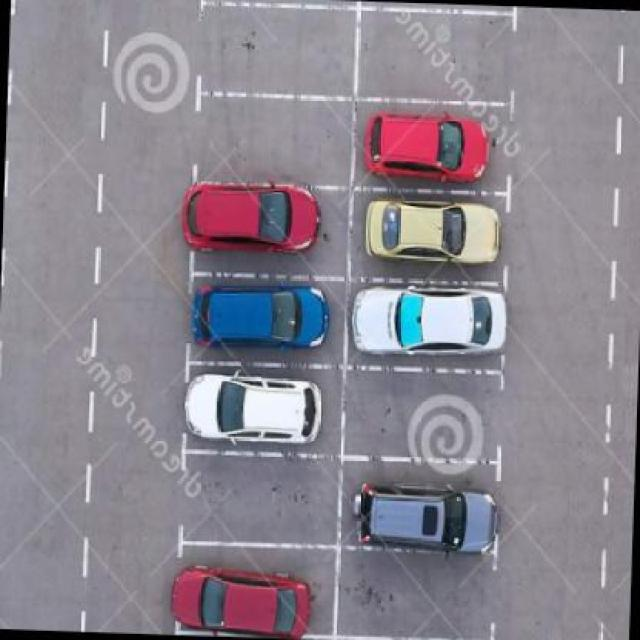Car: (178, 184, 346, 269), (170, 550, 329, 638), (349, 284, 516, 364), (182, 369, 338, 450), (360, 198, 509, 282), (352, 472, 506, 553), (189, 279, 336, 361), (363, 106, 504, 184)
Empty: (198, 9, 355, 98), (201, 107, 355, 189), (350, 377, 507, 457), (364, 17, 515, 100), (346, 552, 490, 636), (194, 459, 337, 538)
